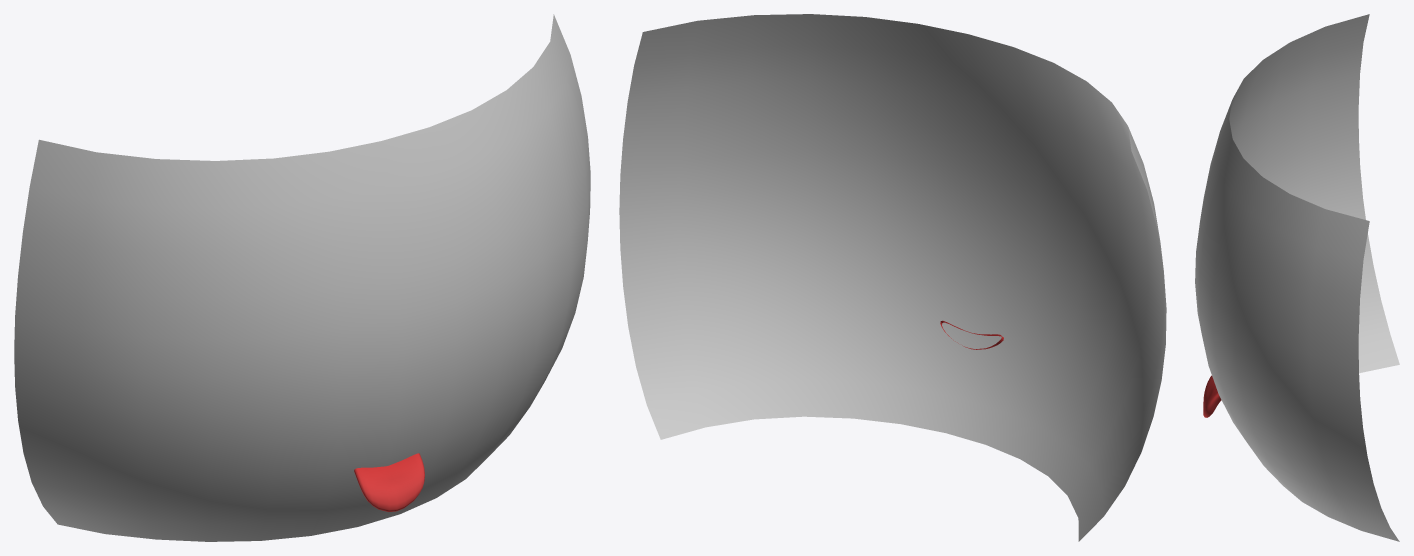
Rendered from Tongue.fbx.
3 renders of one model, left to right at view 1: azimuth 30°, elevation 25°; view 2: azimuth 150°, elevation 25°; view 3: azimuth 270°, elevation 25°, orthographic. The views are drawn at different scales.
Visible parts, largest first — view 1: Tongue Face; view 2: Tongue Face; view 3: Tongue Face.
Part boxes in pixels (<box>): Tongue Face: <box>14,14,590,541</box>; Tongue Face: <box>619,14,1166,541</box>; Tongue Face: <box>1195,14,1399,541</box>.
Size of the model in its own units: 55.82 by 37.73 by 20.87.
